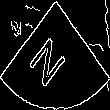N_NE: (32, 23, 78, 87)
